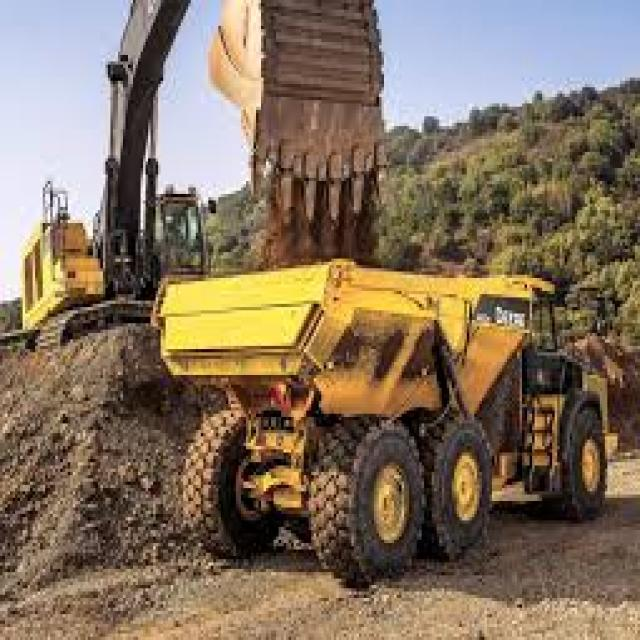dump_truck: (140, 249, 620, 591)
excavator: (10, 0, 392, 346)
